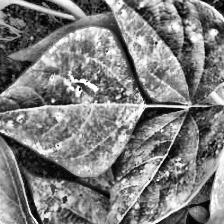Bean Rust: (0, 32, 130, 170), (92, 106, 224, 224), (91, 0, 224, 86), (0, 117, 70, 224), (21, 165, 126, 224)
